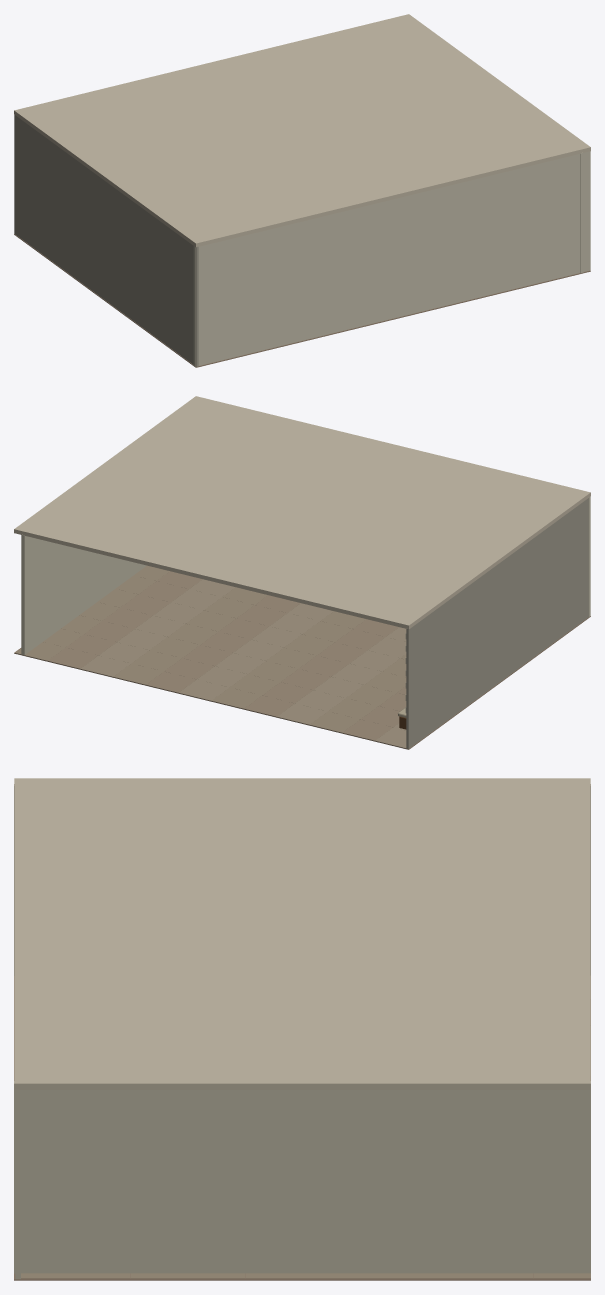
Rendered from shell.glb.
The picture shows the model from 3 angles, top to bottom: view 1: azimuth 30°, elevation 25°; view 2: azimuth 150°, elevation 25°; view 3: azimuth 270°, elevation 25°; orthographic projection. The views are drawn at different scales.
Parts seen in each view (by area): view 1: 실내 조명 베이크용 shell; view 2: 실내 조명 베이크용 shell; view 3: 실내 조명 베이크용 shell.
Part boxes in pixels (bbox=[...]): 실내 조명 베이크용 shell: bbox=[14, 14, 590, 367]; 실내 조명 베이크용 shell: bbox=[14, 396, 590, 749]; 실내 조명 베이크용 shell: bbox=[14, 778, 590, 1280].
Size of the model in its own units: 12.06 by 3.63 by 9.63.
